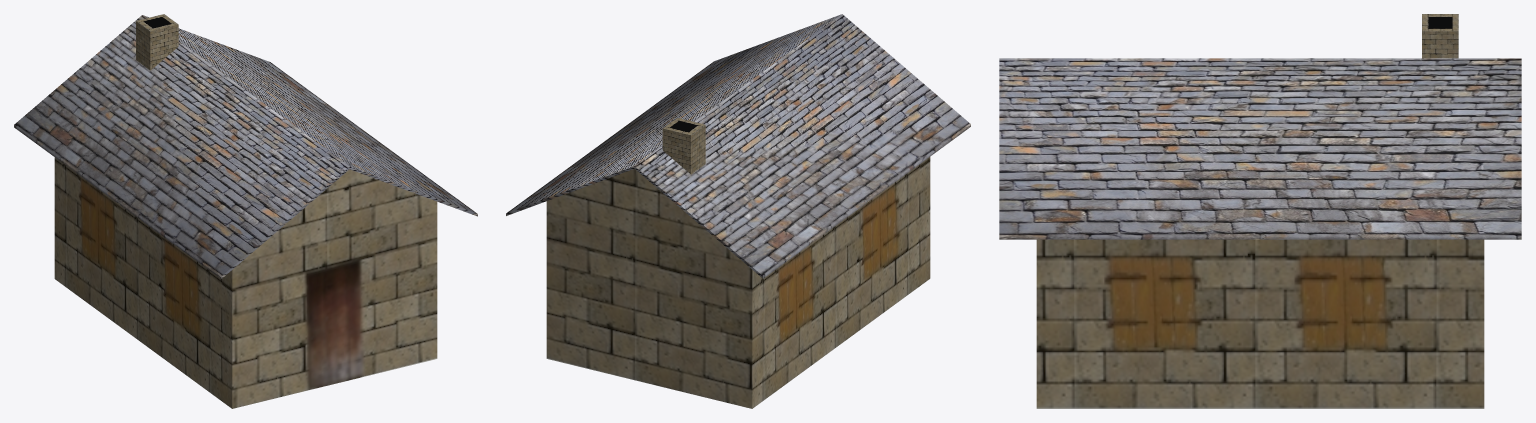
File: house8.obj
3 renders of one model, left to right at view 1: azimuth 30°, elevation 25°; view 2: azimuth 150°, elevation 25°; view 3: azimuth 270°, elevation 25°, orthographic. The views are drawn at different scales.
Parts seen in each view (by area): view 1: Group; view 2: Group; view 3: Group.
Boxes of the visible parts, <box> form: Group: <box>14,14,477,408</box>; Group: <box>506,14,970,408</box>; Group: <box>999,14,1521,408</box>.
Bounding box in the file's own units: 500 × 462 × 700.
1 material, 1 textured.
